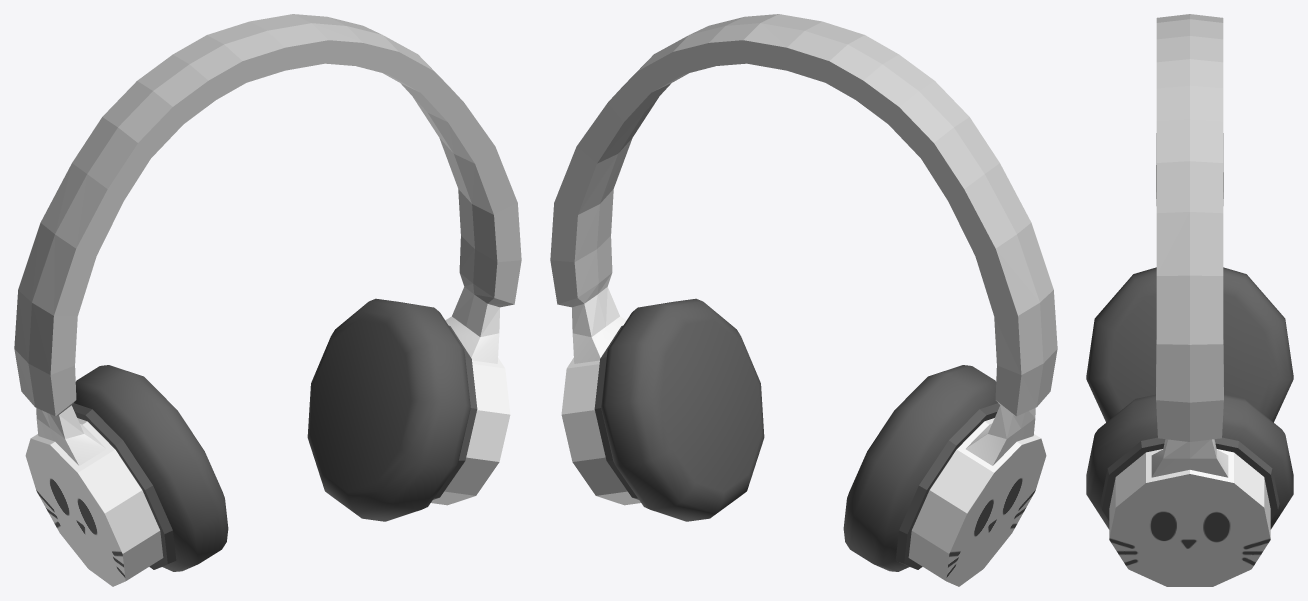
The model's file is Fones.FBX.
3 views of the same model, side by side, from view 1: azimuth 30°, elevation 25°; view 2: azimuth 150°, elevation 25°; view 3: azimuth 270°, elevation 25° (orthographic). The views are drawn at different scales.
Visible parts, largest first — view 1: Cylinder002; view 2: Cylinder002; view 3: Cylinder002.
Part boxes in pixels (left/top/right/bottom): Cylinder002: left=14, top=14, right=521, bottom=586; Cylinder002: left=550, top=14, right=1057, bottom=586; Cylinder002: left=1086, top=14, right=1293, bottom=586.
Bounding box in the file's own units: 143 × 144 × 57.28.
